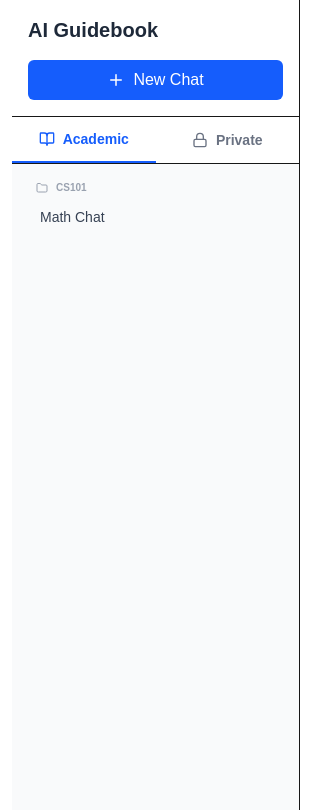
it: Sidebar Component › closes the new chat selector when X is clicked
The image size is (332, 810).
Expected: the heading "CS101" is shown, [36,182,87,194]
Click the button "New Chat" at [156, 80], box [28,60,283,100]
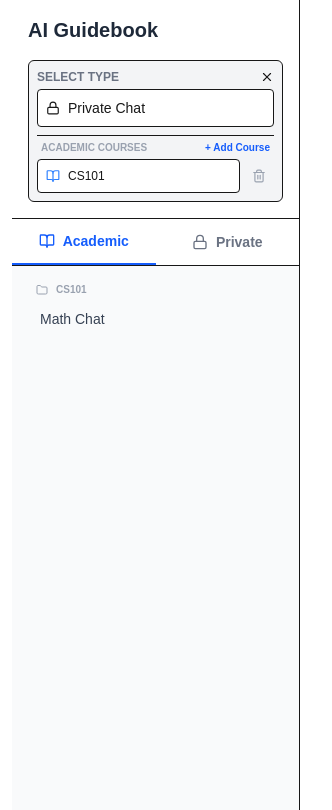
Result: the text "Select Type" is shown at [37,69,119,85]
Click the button without text next to "Select Type" at [267, 77], box [260,70,274,84]
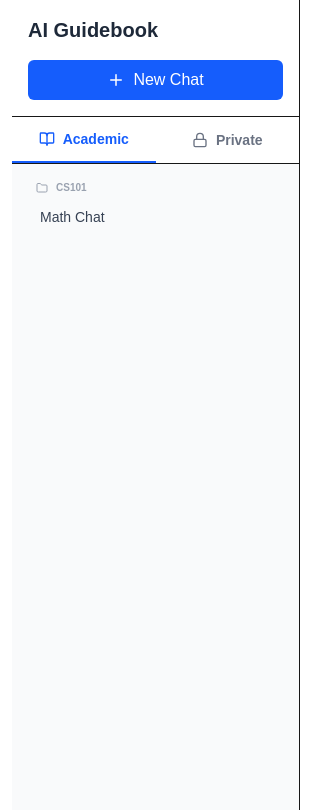
Result: the text "Select Type" is gone
Result: the text "New Chat" is shown at [133,68,204,92]
